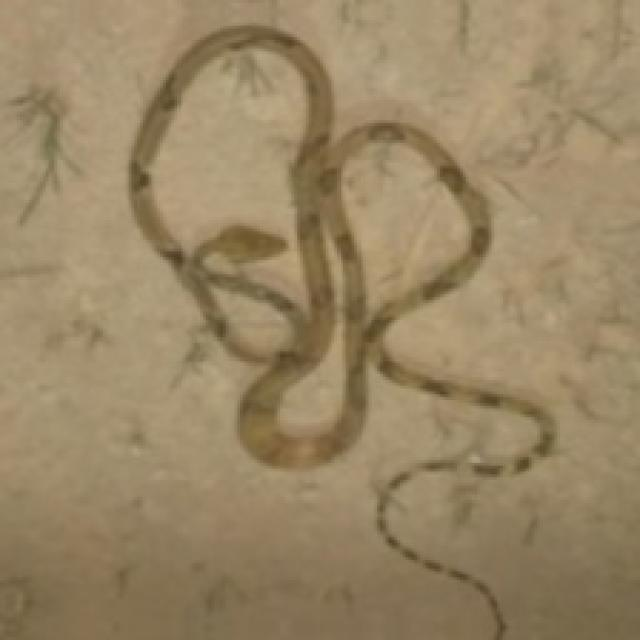dog-toothed cat snake: (129, 26, 551, 471)
